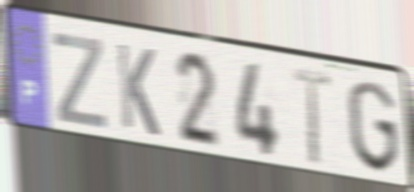2: (173, 49, 222, 153)
4: (232, 60, 282, 160)
G: (345, 78, 403, 177)
K: (113, 39, 162, 141)
T: (290, 64, 335, 169)
Z: (50, 29, 108, 133)
